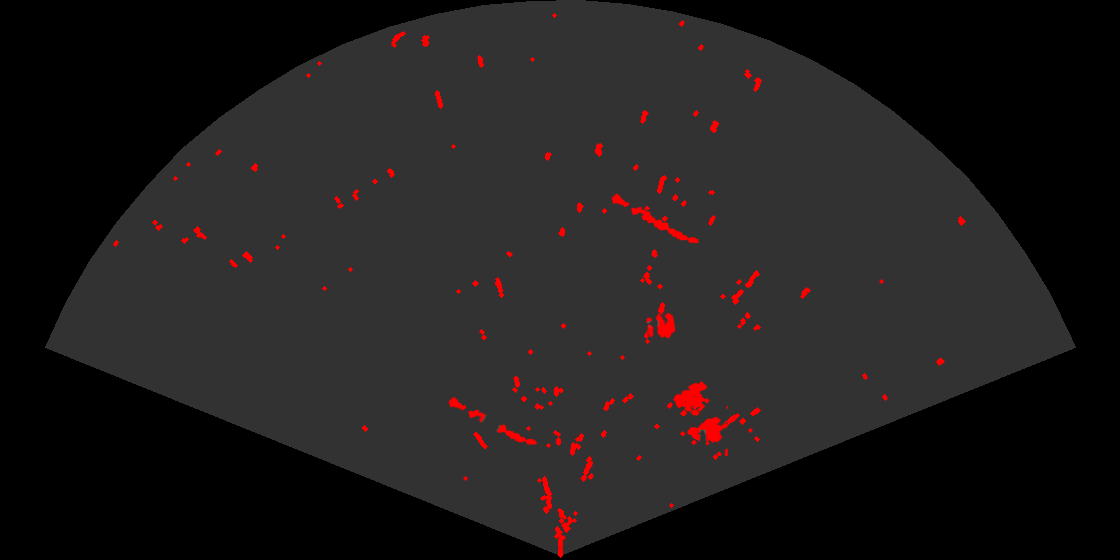ball: (645, 311, 677, 340)
cage: (672, 379, 728, 456)
chain: (610, 192, 700, 245), (447, 395, 539, 446)
